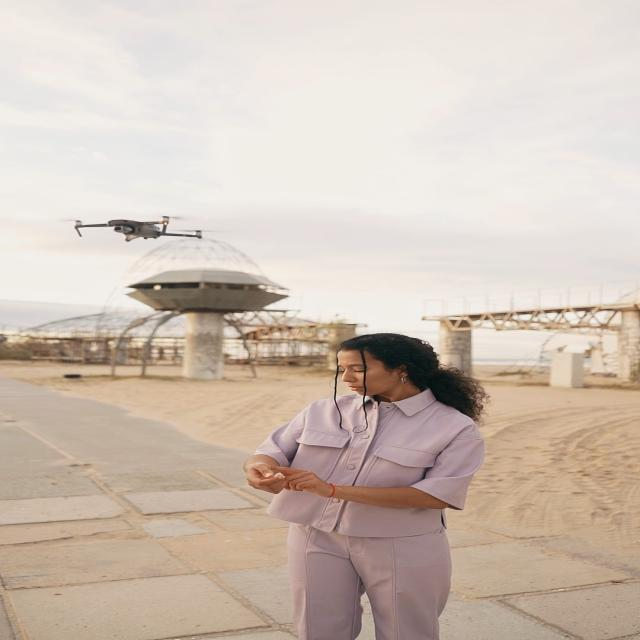Drone: (64, 210, 211, 252)
